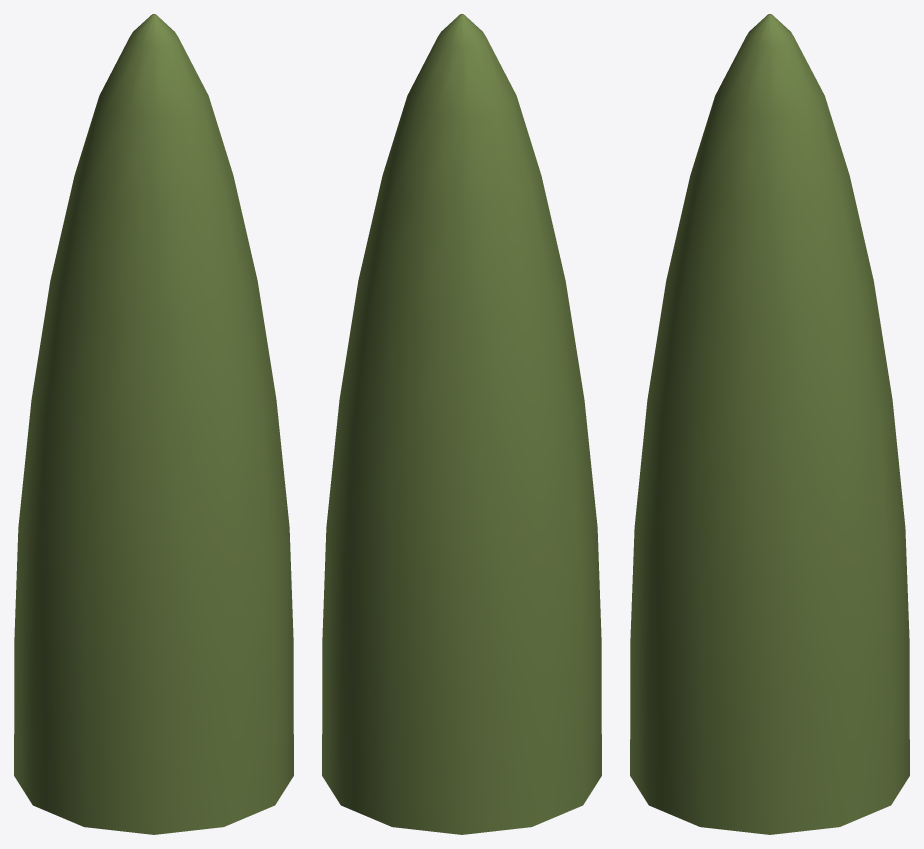
File: Oval-leaved_Privet_Analytical_0.obj
The picture shows the model from 3 angles, left to right: view 1: azimuth 30°, elevation 25°; view 2: azimuth 150°, elevation 25°; view 3: azimuth 270°, elevation 25°; orthographic projection.
Parts seen in each view (by area): view 1: AnalyticalCrown; view 2: AnalyticalCrown; view 3: AnalyticalCrown.
Part boxes in pixels (left/top/right/bottom): AnalyticalCrown: left=14, top=14, right=293, bottom=834; AnalyticalCrown: left=322, top=14, right=601, bottom=834; AnalyticalCrown: left=630, top=14, right=909, bottom=834.
Size of the model in its own units: 1 by 3 by 1.
